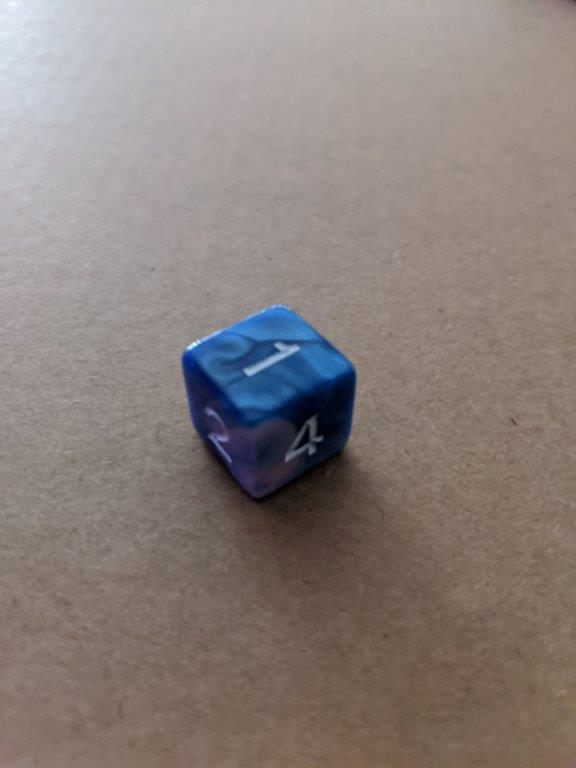d6-1: (182, 300, 359, 501)
